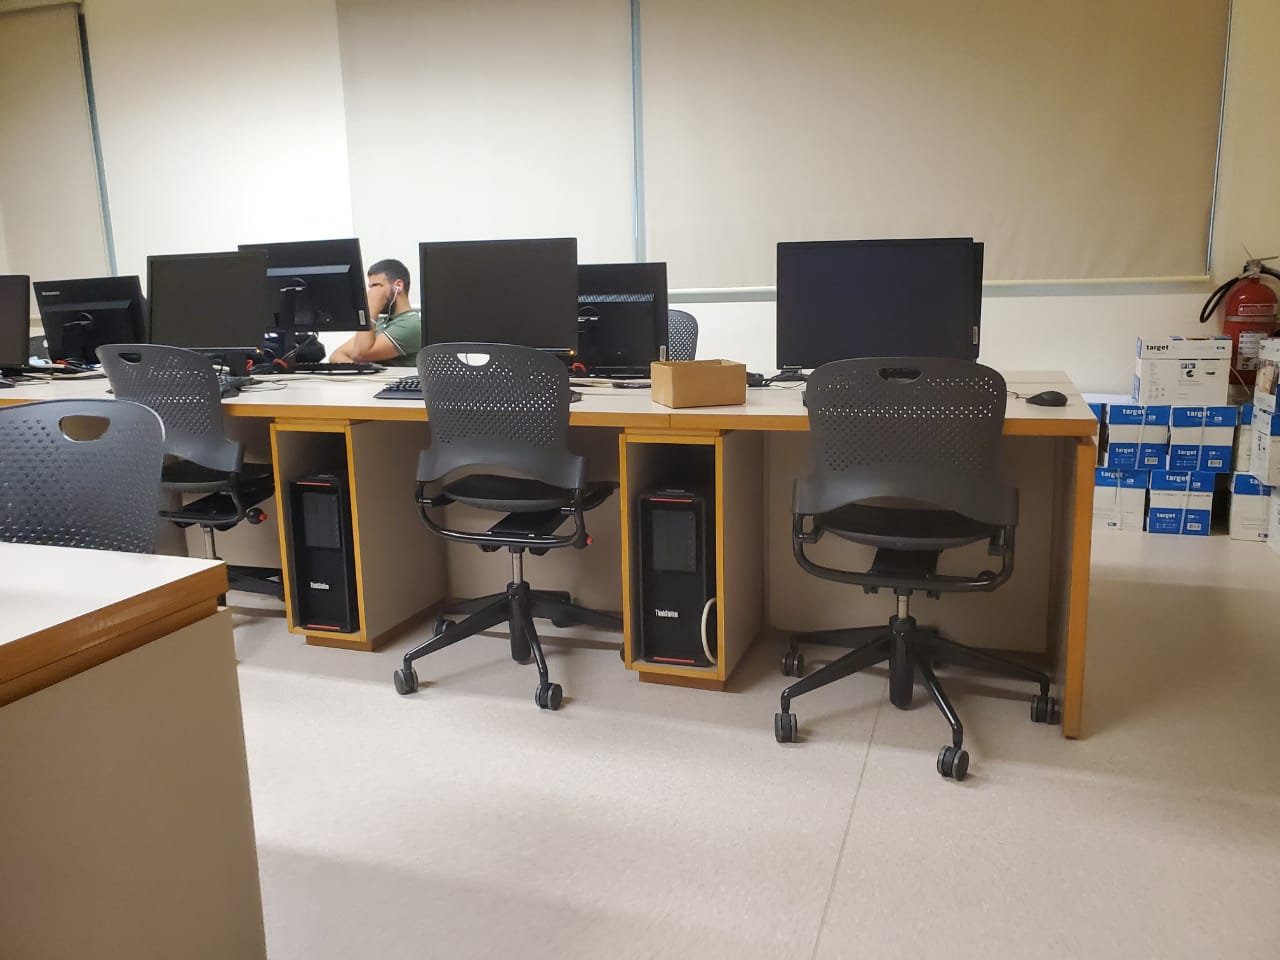CBox: (644, 352, 753, 411)
